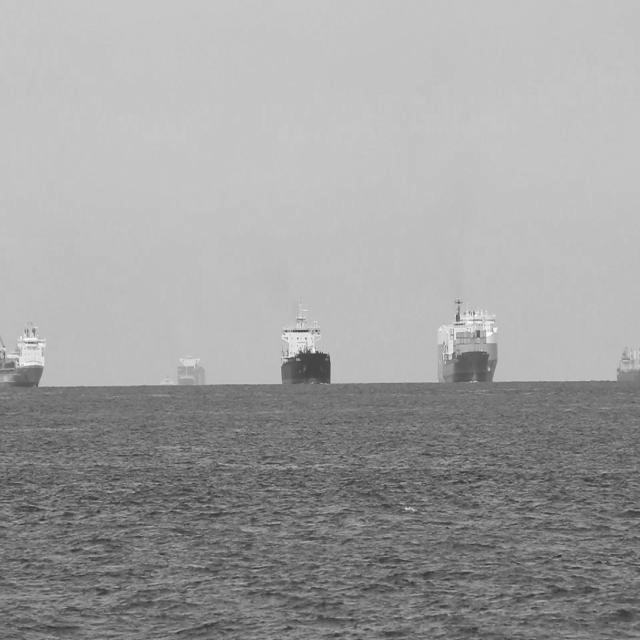ship: (435, 296, 500, 388), (279, 296, 332, 392), (0, 320, 48, 392), (175, 354, 208, 396), (615, 347, 639, 387), (156, 380, 177, 398)
